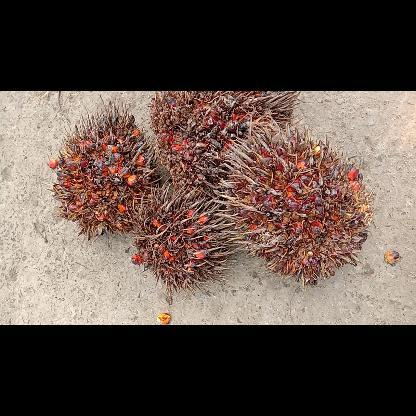Terlalu masak: (210, 116, 372, 298), (46, 96, 166, 240), (144, 91, 302, 191), (124, 178, 240, 300)
